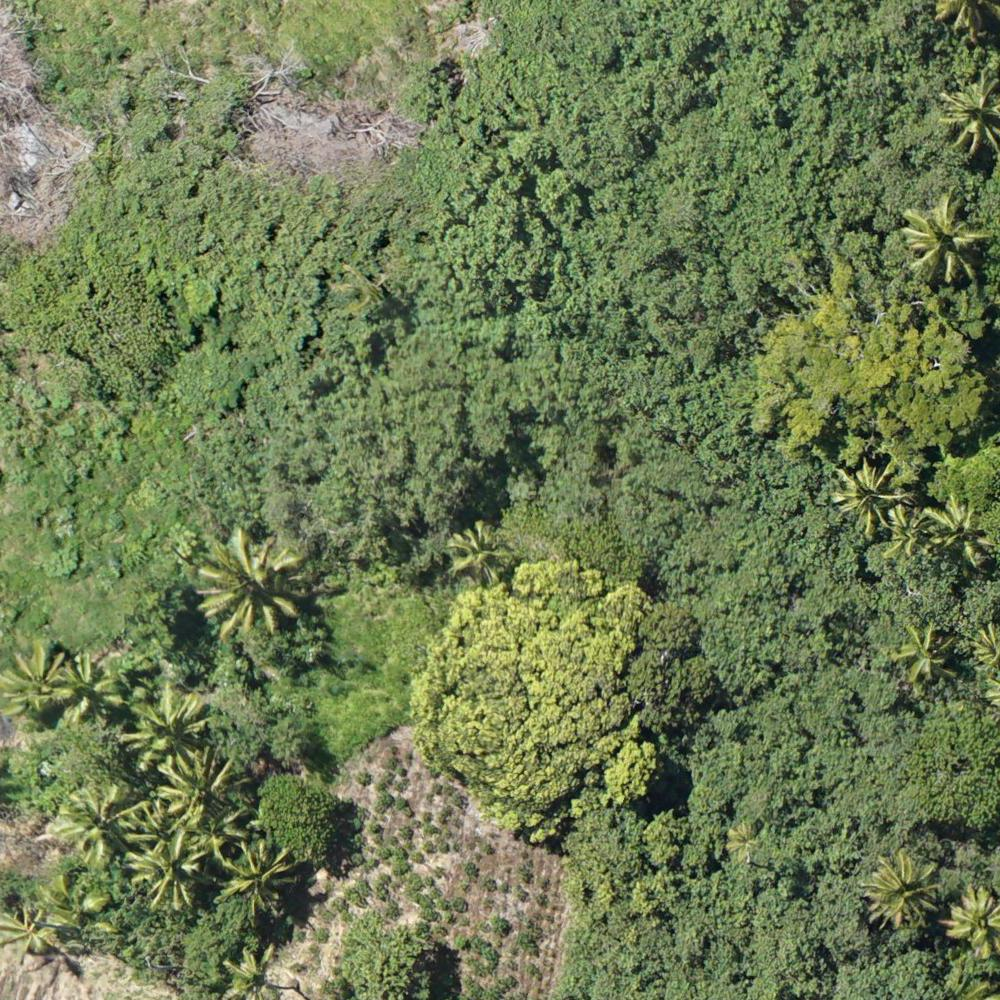Palm: (202, 531, 302, 639), (901, 195, 985, 280), (54, 784, 137, 867), (128, 685, 204, 772), (158, 752, 236, 827), (213, 841, 291, 915), (1, 643, 70, 726), (865, 852, 937, 928), (130, 836, 201, 913), (835, 459, 905, 527), (940, 71, 1000, 150), (56, 650, 118, 718), (1, 898, 64, 963), (943, 884, 1000, 955), (443, 518, 507, 580), (218, 948, 287, 1000), (929, 499, 983, 563), (899, 619, 950, 682), (888, 508, 934, 558)
